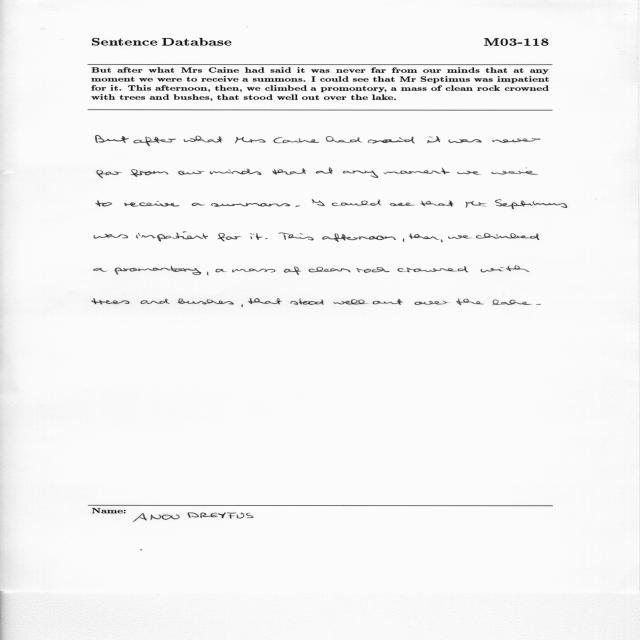word: (115, 266, 201, 275), (495, 200, 567, 210), (136, 232, 208, 242), (322, 233, 396, 242), (476, 233, 539, 240), (397, 266, 468, 272), (384, 168, 450, 174), (133, 137, 176, 146), (177, 299, 234, 305), (368, 137, 415, 144), (491, 168, 538, 175), (211, 203, 290, 207), (210, 169, 262, 175), (332, 200, 382, 206), (131, 169, 168, 177), (481, 266, 530, 272), (278, 233, 314, 241), (274, 138, 320, 144), (125, 201, 180, 206), (184, 136, 223, 143), (95, 135, 129, 143), (92, 298, 130, 305), (326, 136, 362, 143), (272, 168, 307, 175), (343, 171, 378, 178), (492, 138, 540, 143), (492, 299, 532, 305), (420, 200, 454, 207), (248, 298, 282, 305), (409, 233, 439, 240), (309, 267, 351, 272), (333, 299, 368, 305), (290, 299, 324, 305), (97, 170, 122, 178), (357, 267, 390, 273), (456, 299, 484, 306), (218, 233, 242, 241), (235, 137, 266, 143), (140, 298, 170, 304), (373, 299, 403, 305), (232, 269, 276, 273), (284, 266, 301, 275), (466, 201, 487, 208), (94, 234, 128, 238), (415, 301, 449, 305), (449, 139, 482, 143), (178, 171, 205, 175), (316, 168, 333, 174), (448, 235, 473, 239), (457, 171, 481, 175), (96, 201, 112, 207), (428, 136, 441, 143), (312, 199, 325, 206), (250, 233, 263, 240), (390, 203, 415, 206), (94, 268, 107, 272), (192, 203, 205, 206), (216, 269, 226, 272), (403, 238, 405, 242), (207, 272, 209, 276), (242, 304, 244, 307), (295, 206, 300, 207), (536, 304, 541, 305), (441, 239, 442, 243), (265, 238, 268, 239)
